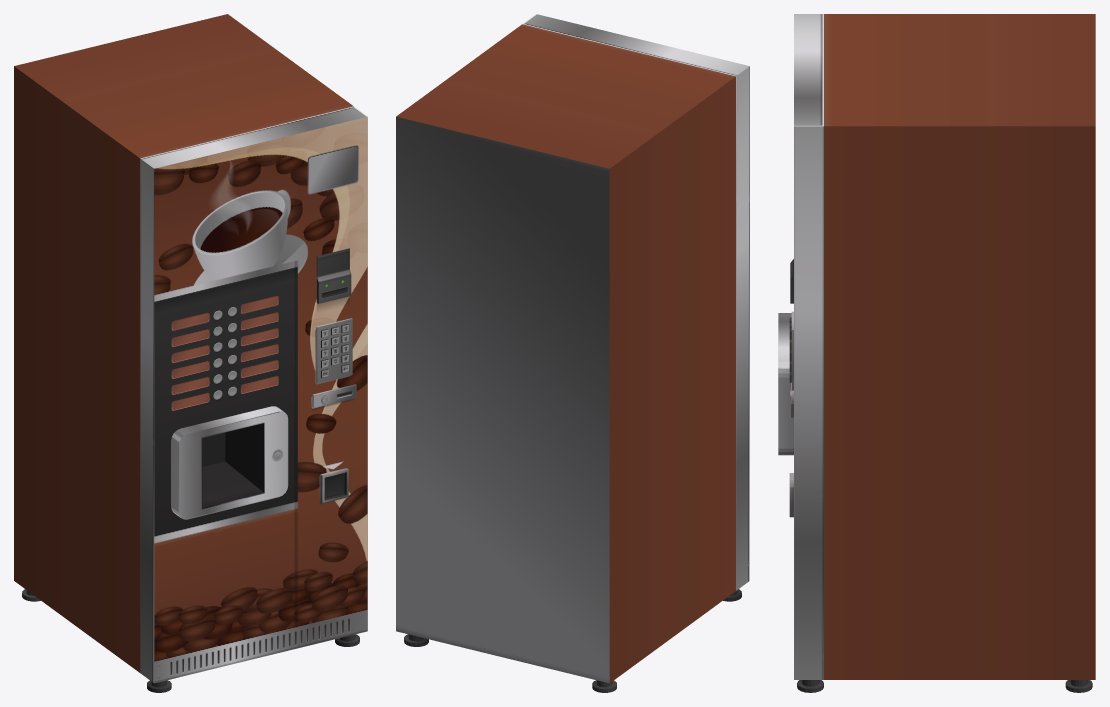
The model's file is coffee.fbx.
The picture shows the model from 3 angles, left to right: view 1: azimuth 30°, elevation 25°; view 2: azimuth 150°, elevation 25°; view 3: azimuth 270°, elevation 25°; orthographic projection. The views are drawn at different scales.
Parts seen in each view (by area): view 1: Coffee; view 2: Coffee; view 3: Coffee.
Boxes of the visible parts, <box> form: Coffee: <box>14,14,367,692</box>; Coffee: <box>396,14,749,692</box>; Coffee: <box>778,14,1095,692</box>.
Bounding box in the file's own units: 132 × 311 × 158.
Materials: 2 (2 with a texture image).
